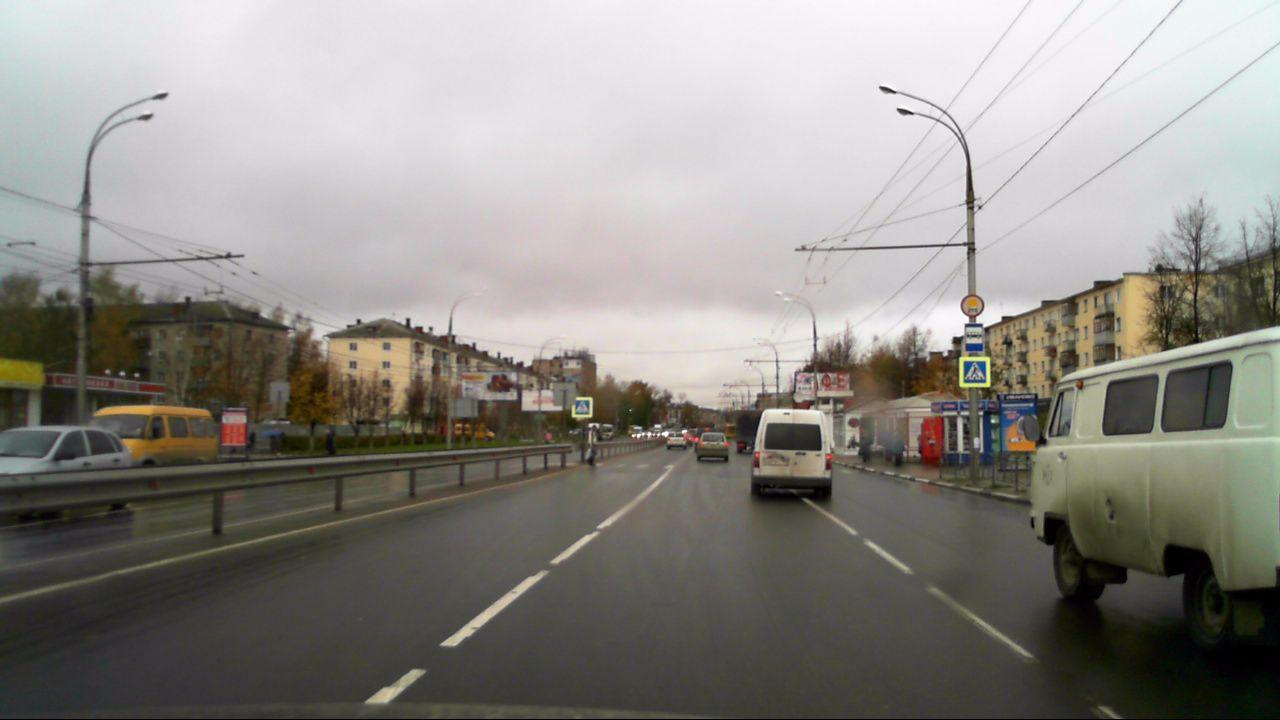road_sign: (960, 356, 990, 387), (964, 325, 984, 353), (571, 398, 594, 417)
